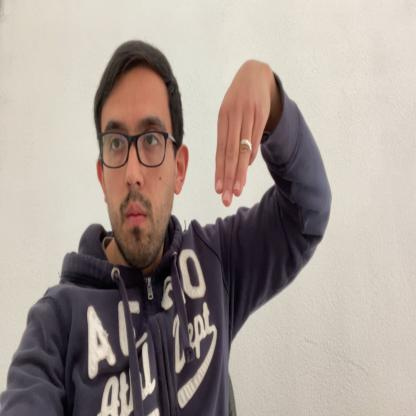M: (215, 66, 271, 208)
